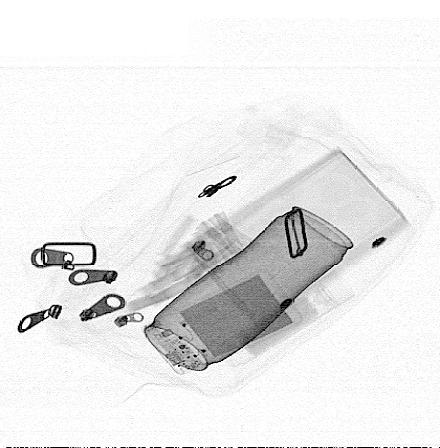Powerbank: (136, 268, 304, 376)
